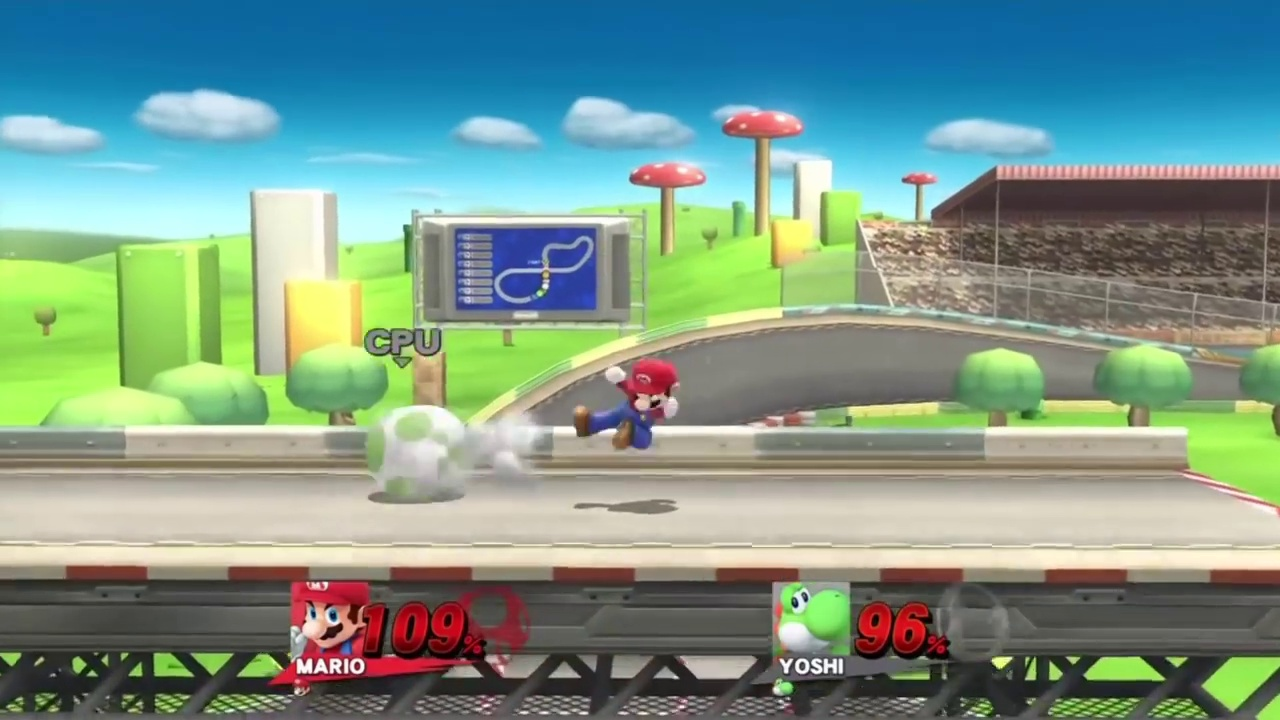Mario: (574, 360, 686, 451)
